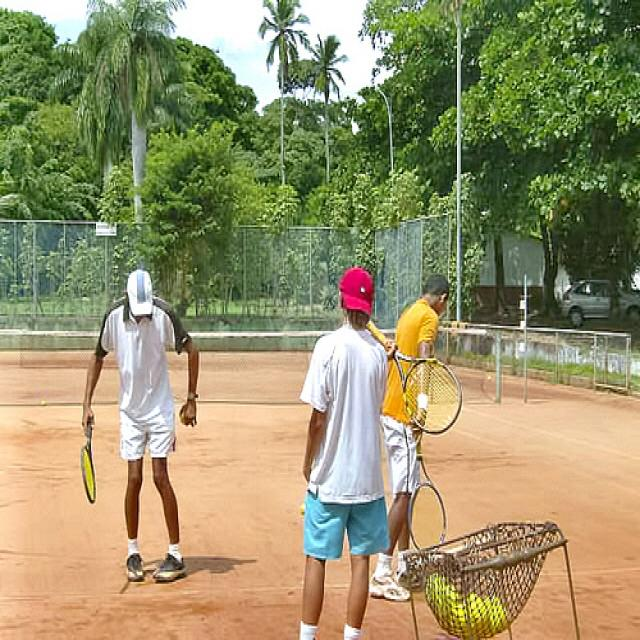Vehicle: (560, 281, 640, 326)
